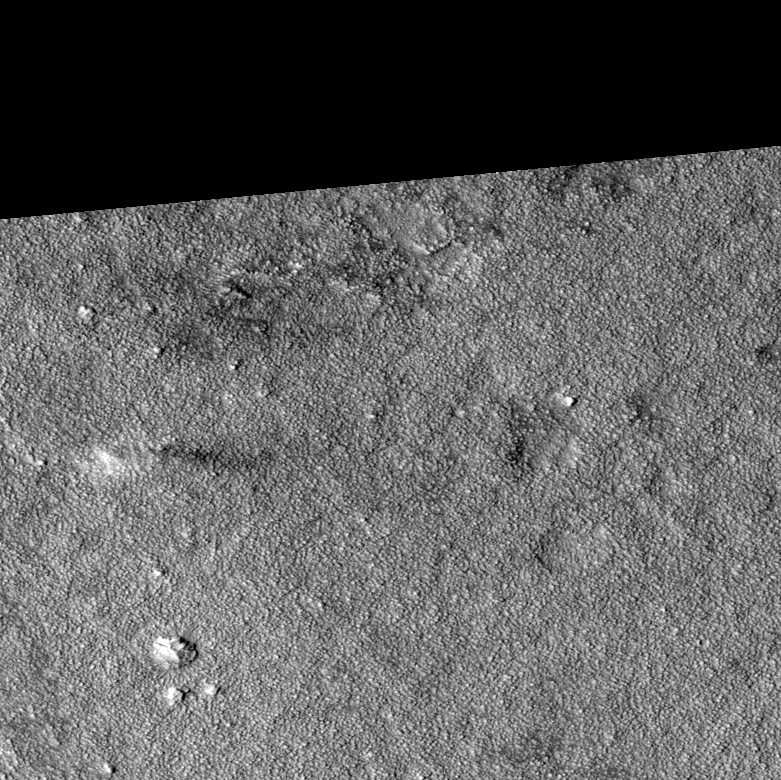dust_devil: (94, 438, 280, 483)
